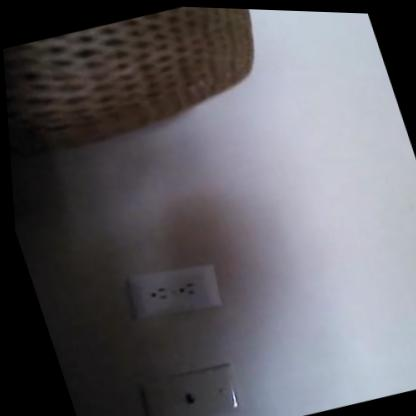OUTLET: (120, 255, 226, 328)
